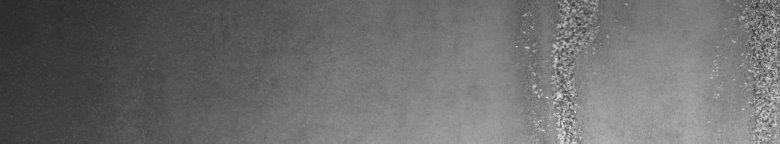hc: (711, 4, 776, 136)
